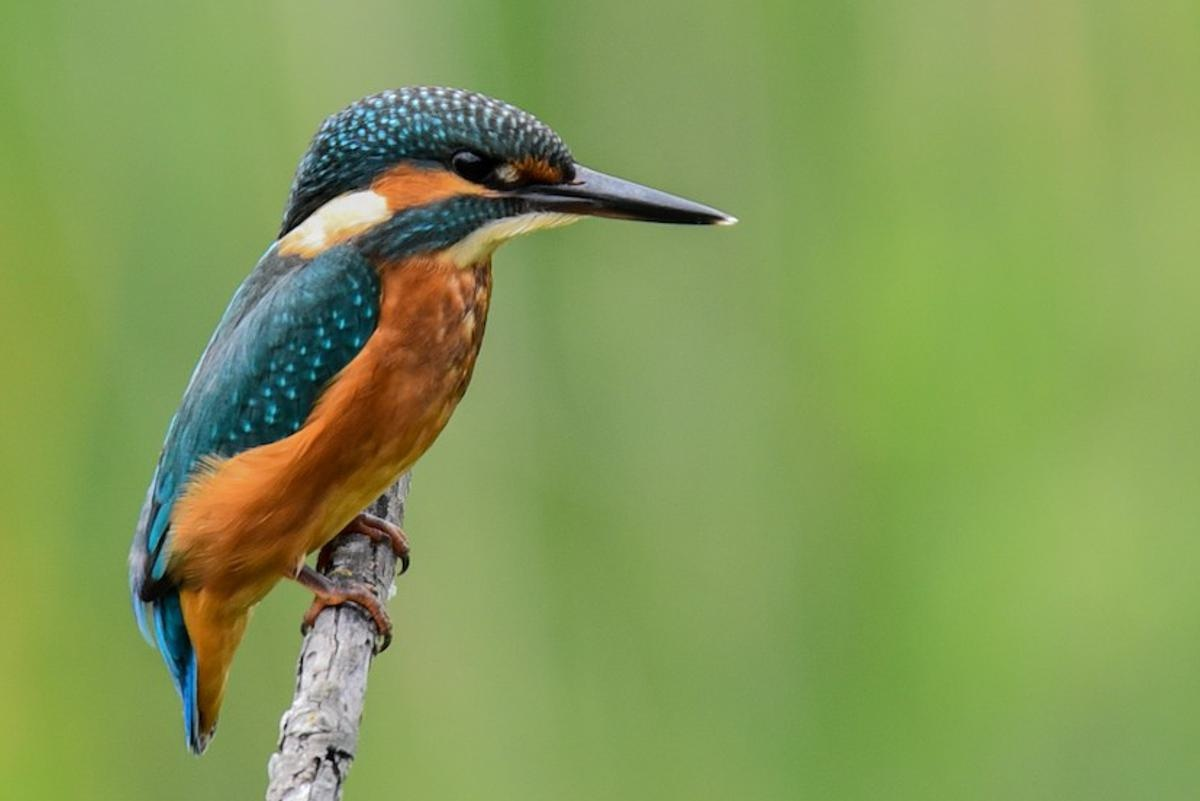kingfisher: (87, 67, 748, 736)
